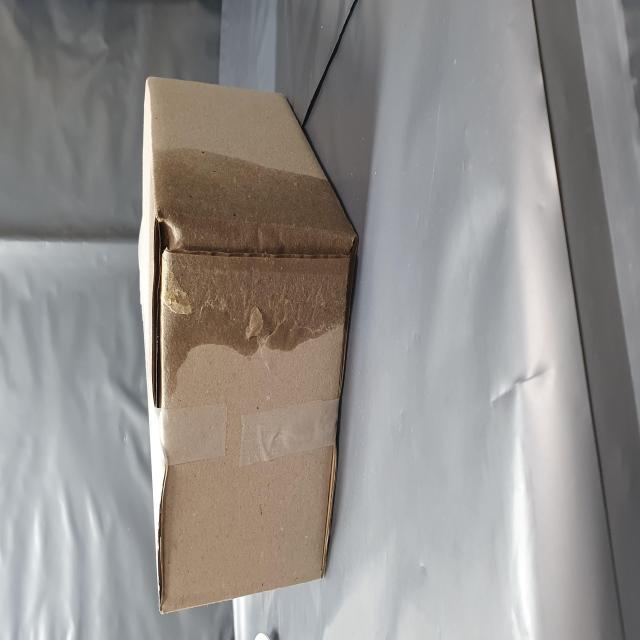wet: (150, 258, 272, 630)
